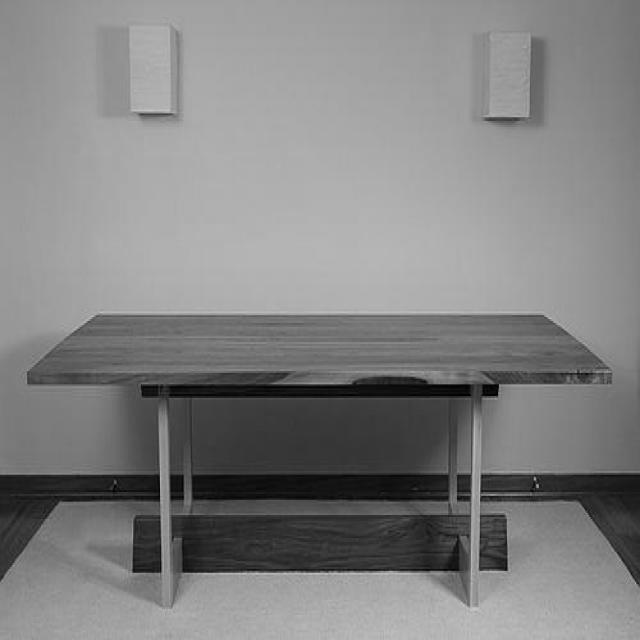table: (29, 314, 614, 606)
